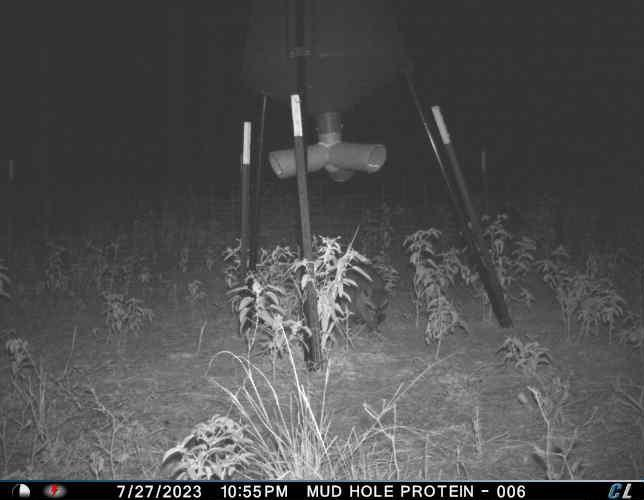Raccoon: (336, 259, 393, 341)
